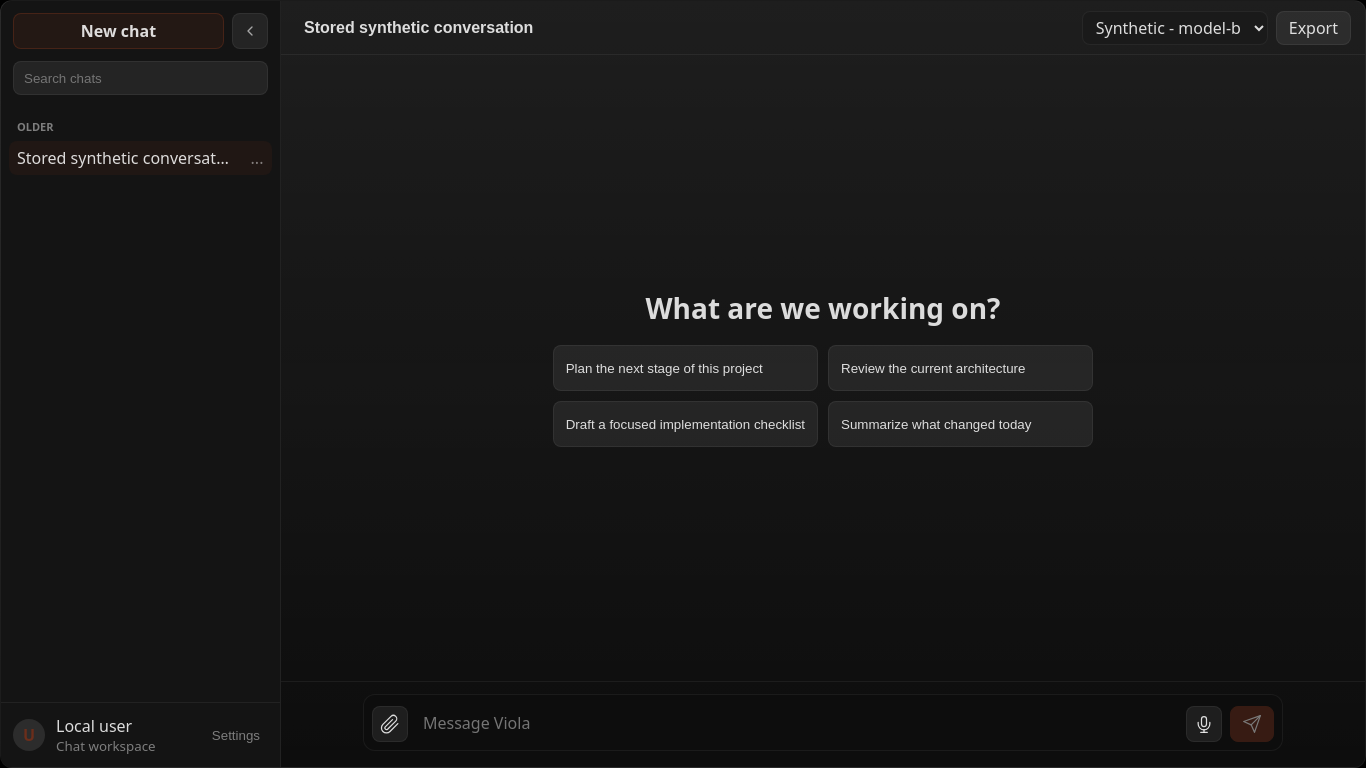
Test: Chat thread model restoration through actual apiFetch › keeps the restored value visible through a failed catalog and Retry
Check: the field showing "Stored synthetic conversation" is shown, box 295,10 -> 1070,44
Focus the dropdown named "Model" at (1175, 28), box 1082,10 -> 1268,44
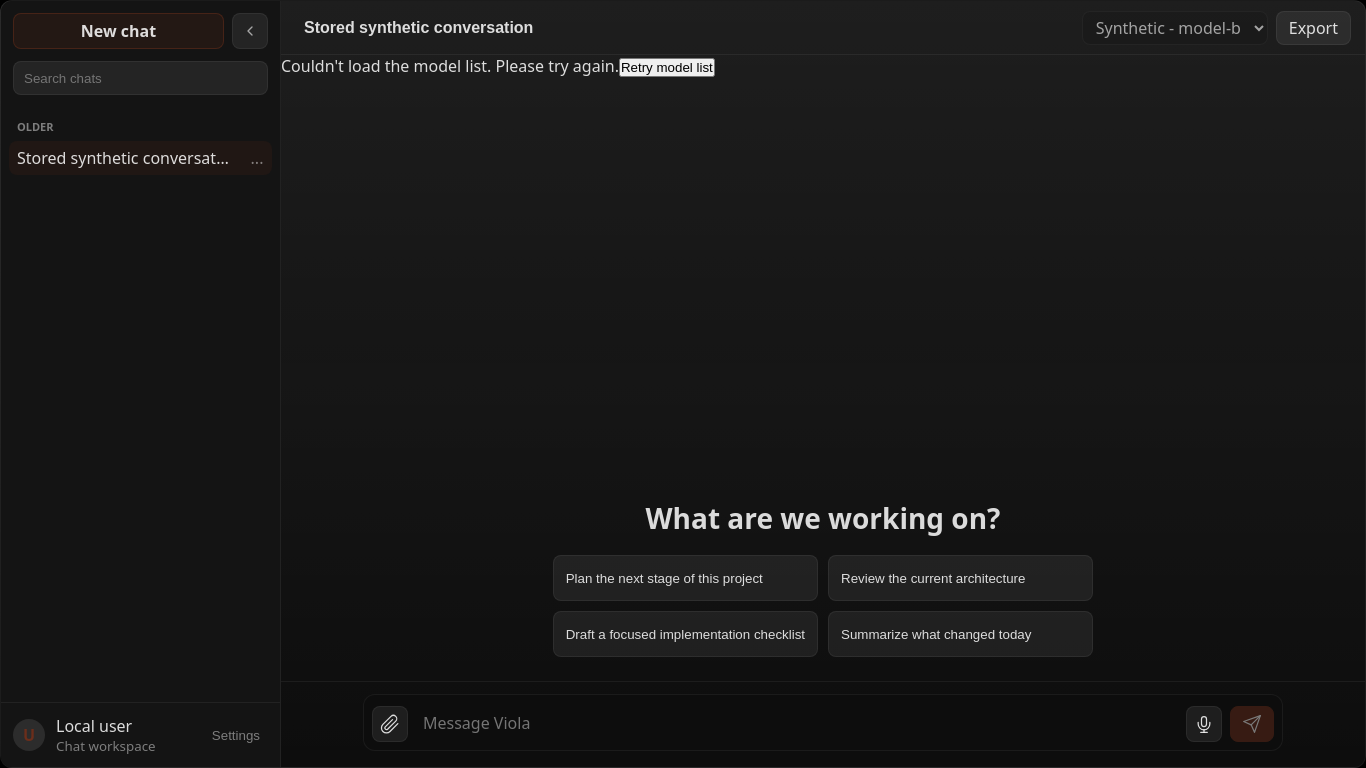
Check: the dropdown named "Model" is disabled, box 1082,10 -> 1268,44
Click the button "Retry model list" at (667, 68), box 619,58 -> 715,77
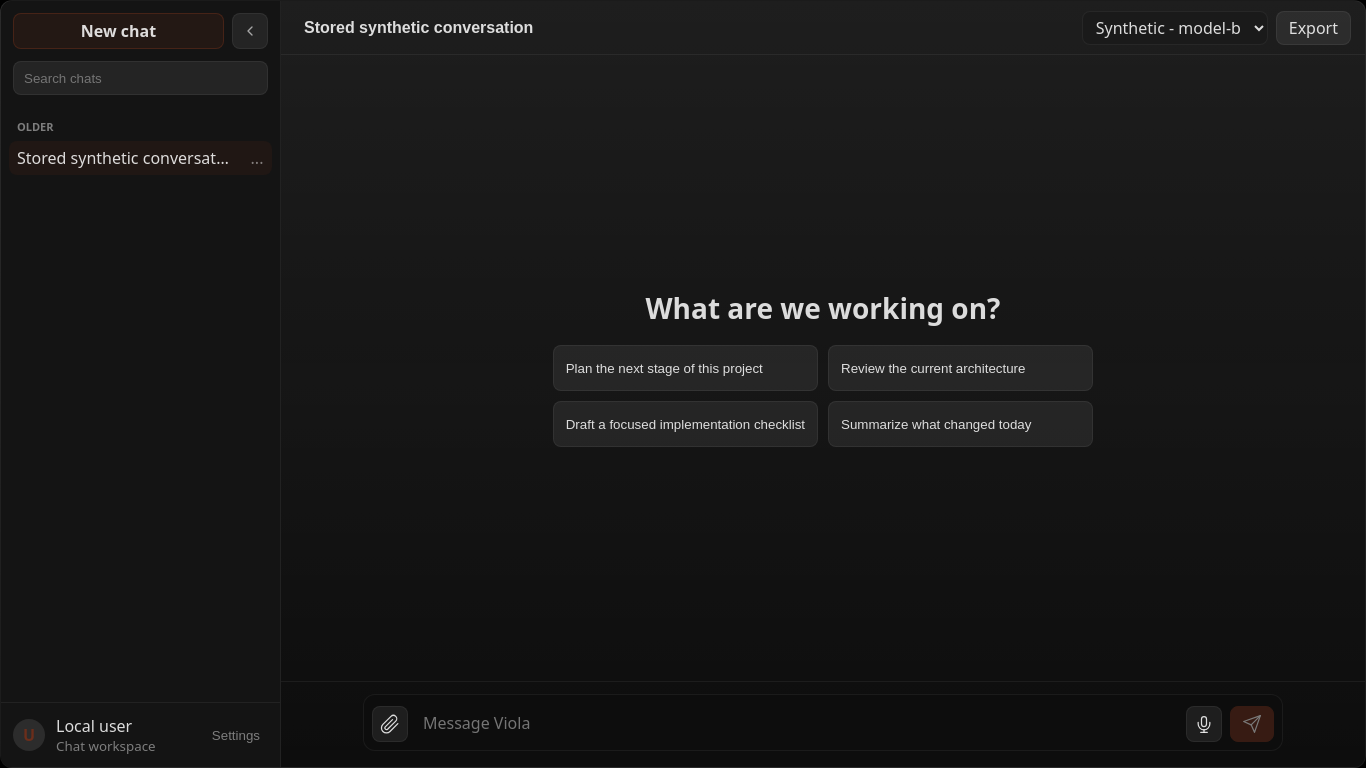
Check: the dropdown named "Model" shows "Synthetic - model-b", box 1082,10 -> 1268,44
Check: the dropdown named "Model" is enabled, box 1082,10 -> 1268,44
